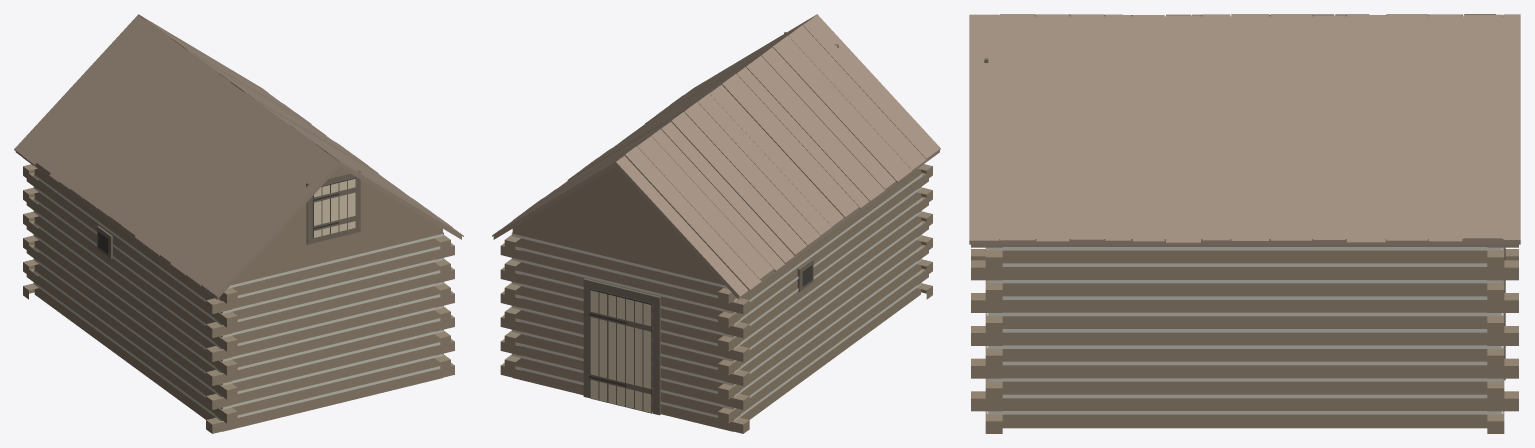
The model's file is recon_1835_blk_indiana_north_cass_a1_08__inferred_1835.glb.
3 views of the same model, side by side, from view 1: azimuth 30°, elevation 25°; view 2: azimuth 150°, elevation 25°; view 3: azimuth 270°, elevation 25° (orthographic). The views are drawn at different scales.
Parts seen in each view (by area): view 1: recon_1835_blk_indiana_north_cass_a1_08__inferred_1835; view 2: recon_1835_blk_indiana_north_cass_a1_08__inferred_1835; view 3: recon_1835_blk_indiana_north_cass_a1_08__inferred_1835.
Boxes of the visible parts, bbox=[...] form: recon_1835_blk_indiana_north_cass_a1_08__inferred_1835: bbox=[14, 14, 463, 433]; recon_1835_blk_indiana_north_cass_a1_08__inferred_1835: bbox=[492, 14, 940, 433]; recon_1835_blk_indiana_north_cass_a1_08__inferred_1835: bbox=[969, 14, 1520, 433].
Size of the model in its own units: 5.48 by 5.22 by 7.65.
